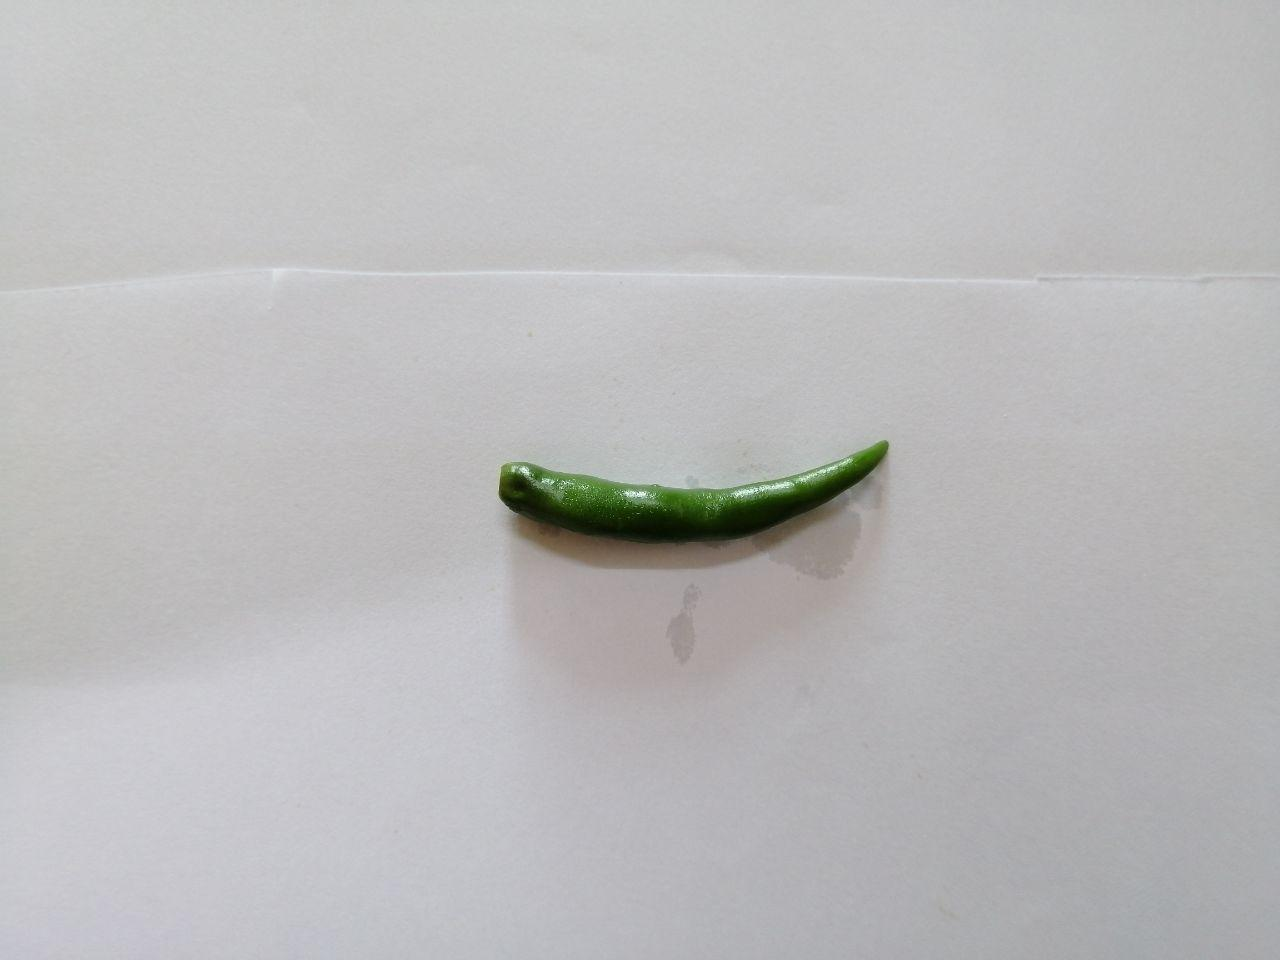lada hijau: (458, 403, 924, 592)
